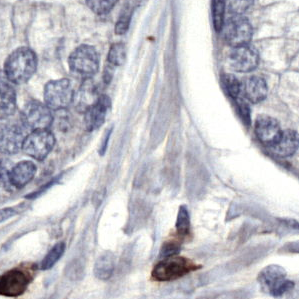Lymphocyte: (151, 254, 202, 279)
